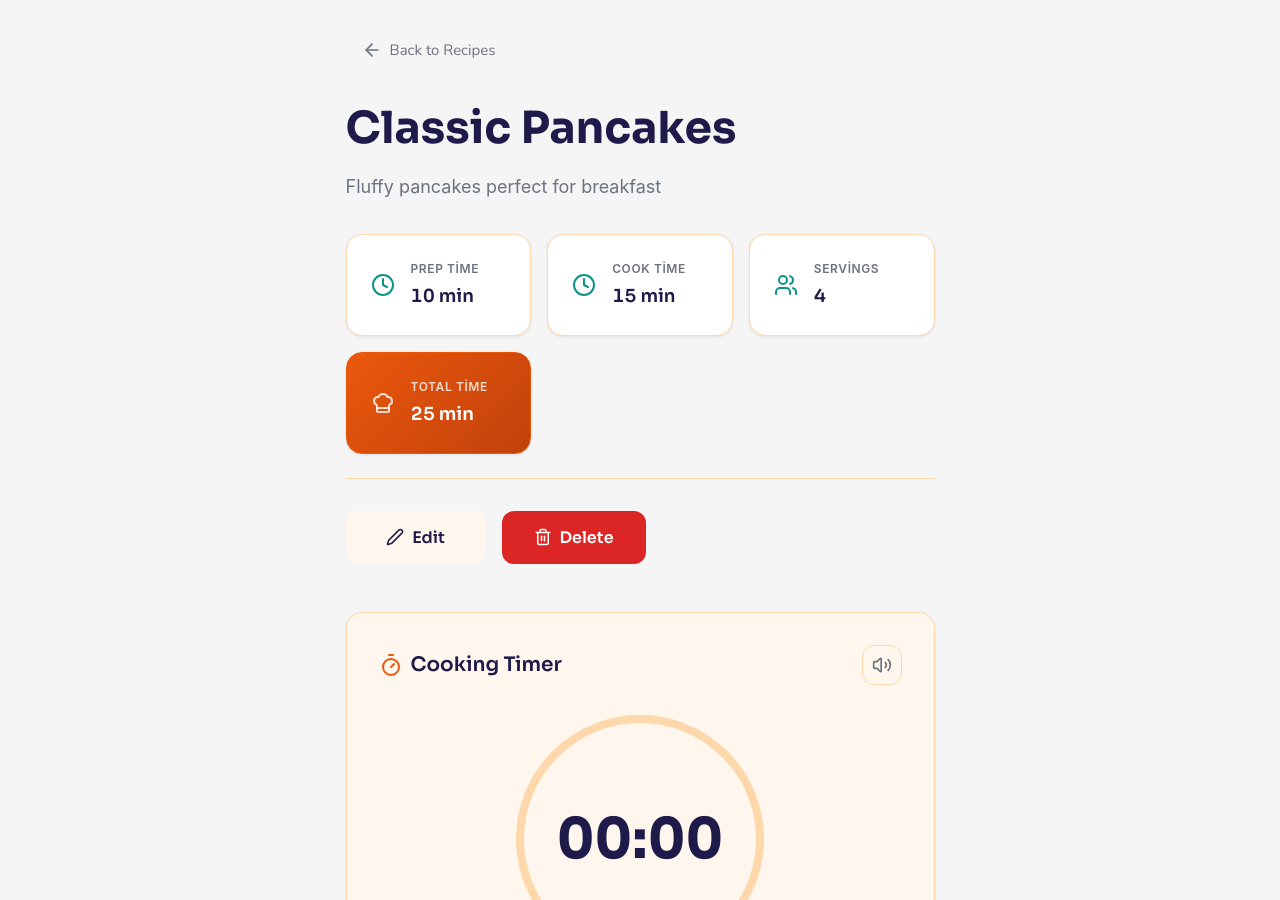
Test: RecipeDetail Component › Delete Button › should close modal when Cancel is clicked
This screenshot has width=1280, height=900.
Step 1. Click the button "Delete" → (574, 538), box [502, 511, 646, 564]
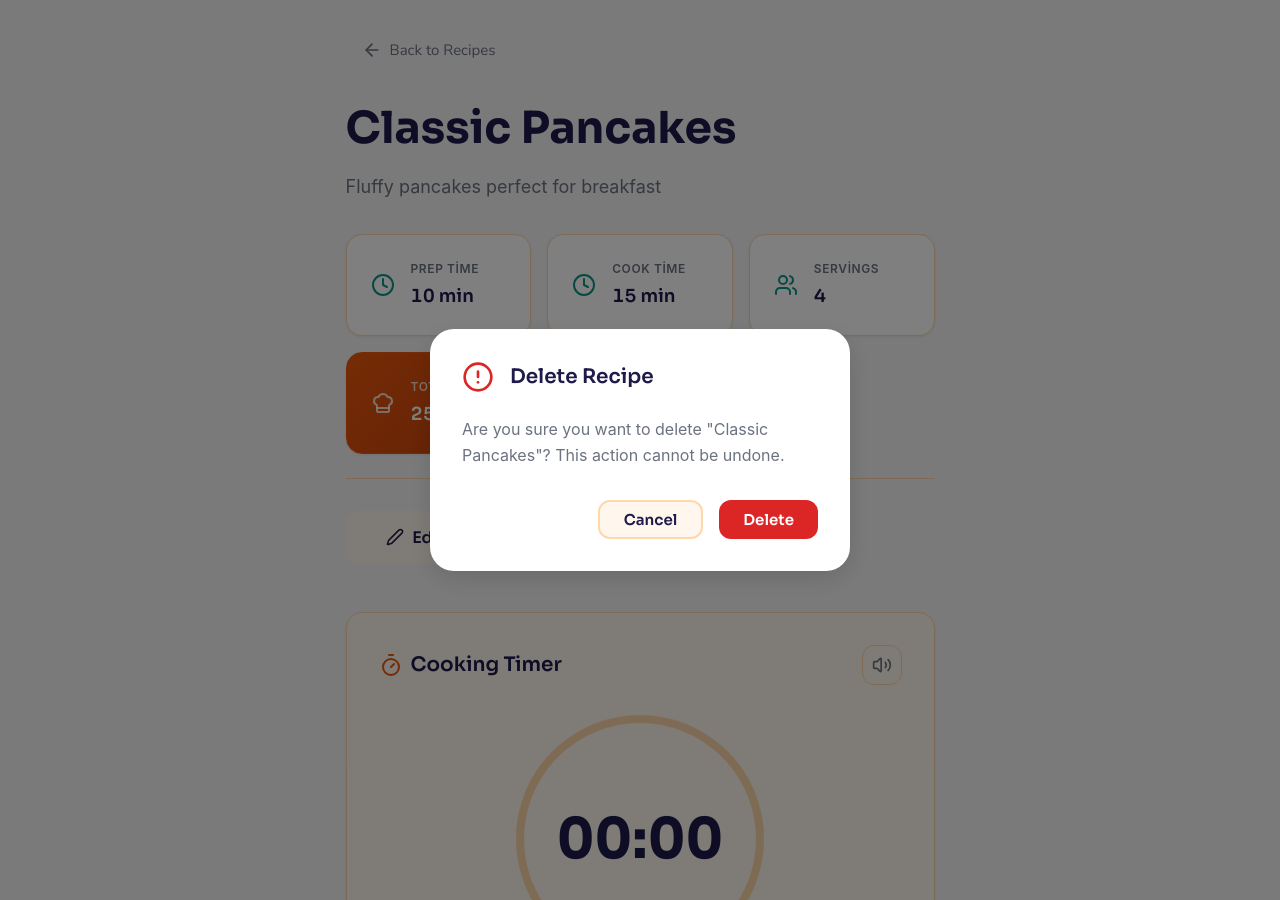
Expected: the dialog is shown
Step 2. Click the button "Cancel" → (651, 520), box [598, 500, 703, 539]
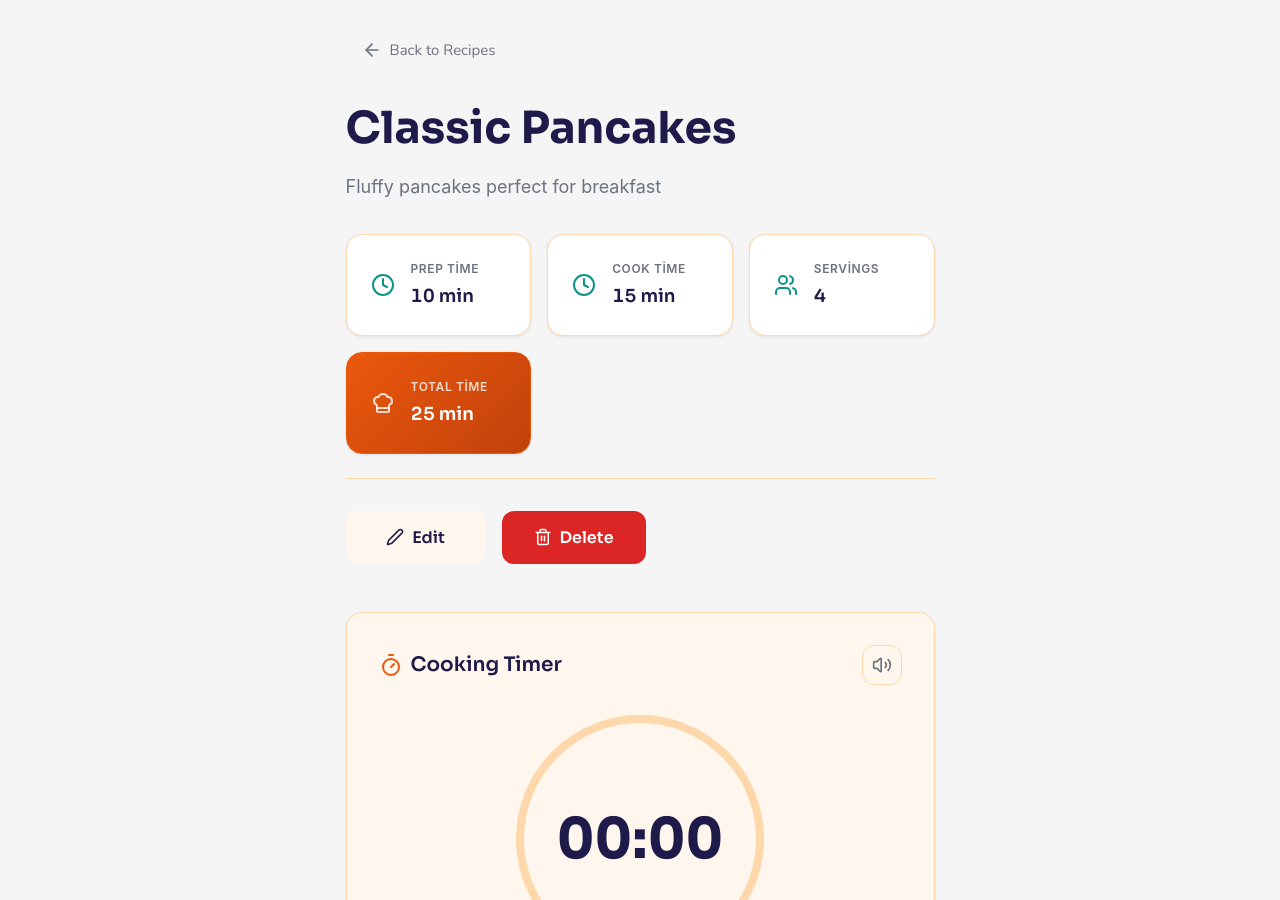
Expected: the dialog is gone
